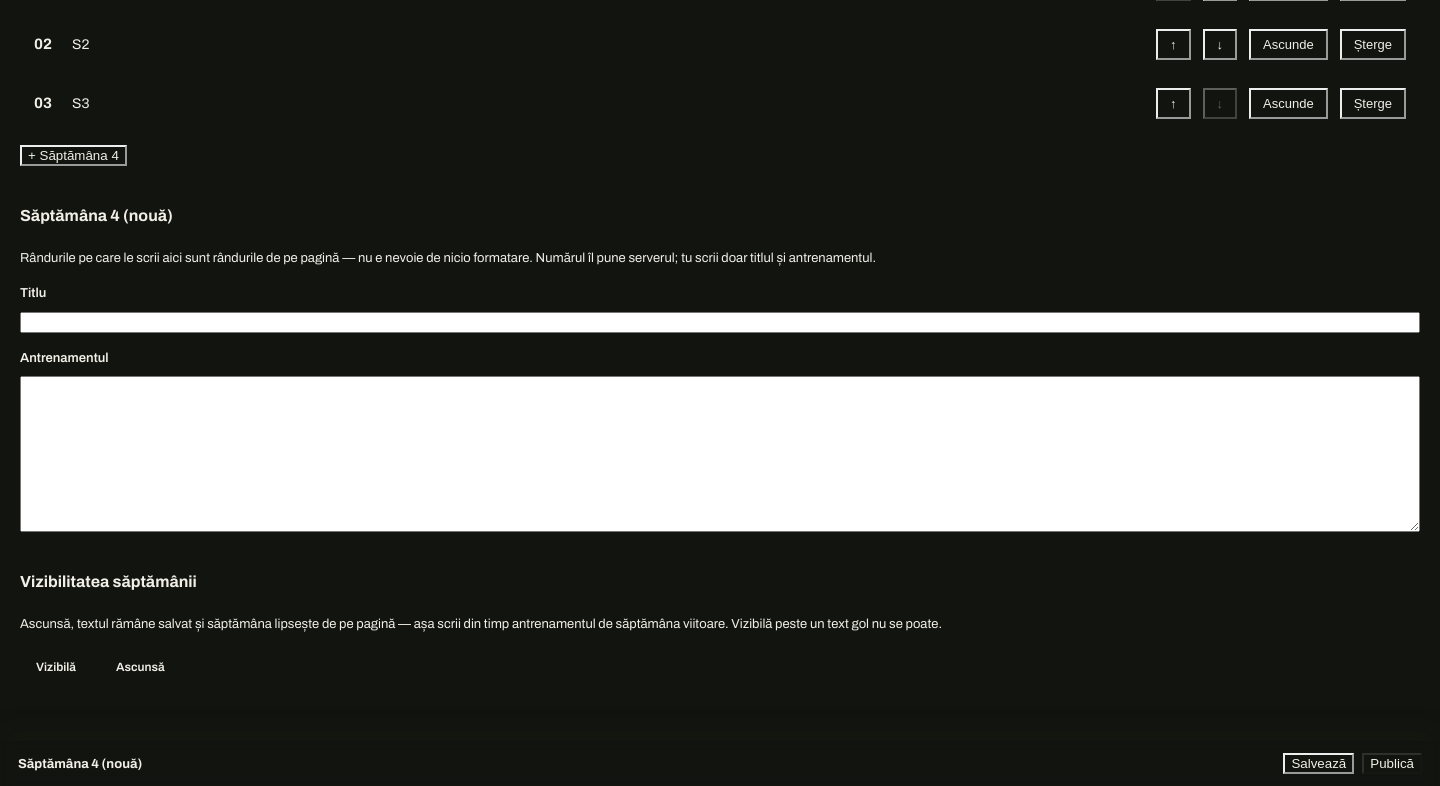
Test: textul nesalvat › „Renunț la text" deschide săptămâna cerută
The width and height of the screenshot is (1440, 786).
(page scrolled)
Expected: the button "S2" is shown, [72,31,1144,58]
In the text box labelled "Antrenamentul": x=720, y=454 [20,376,1420,532], type "ceva nesalvat"
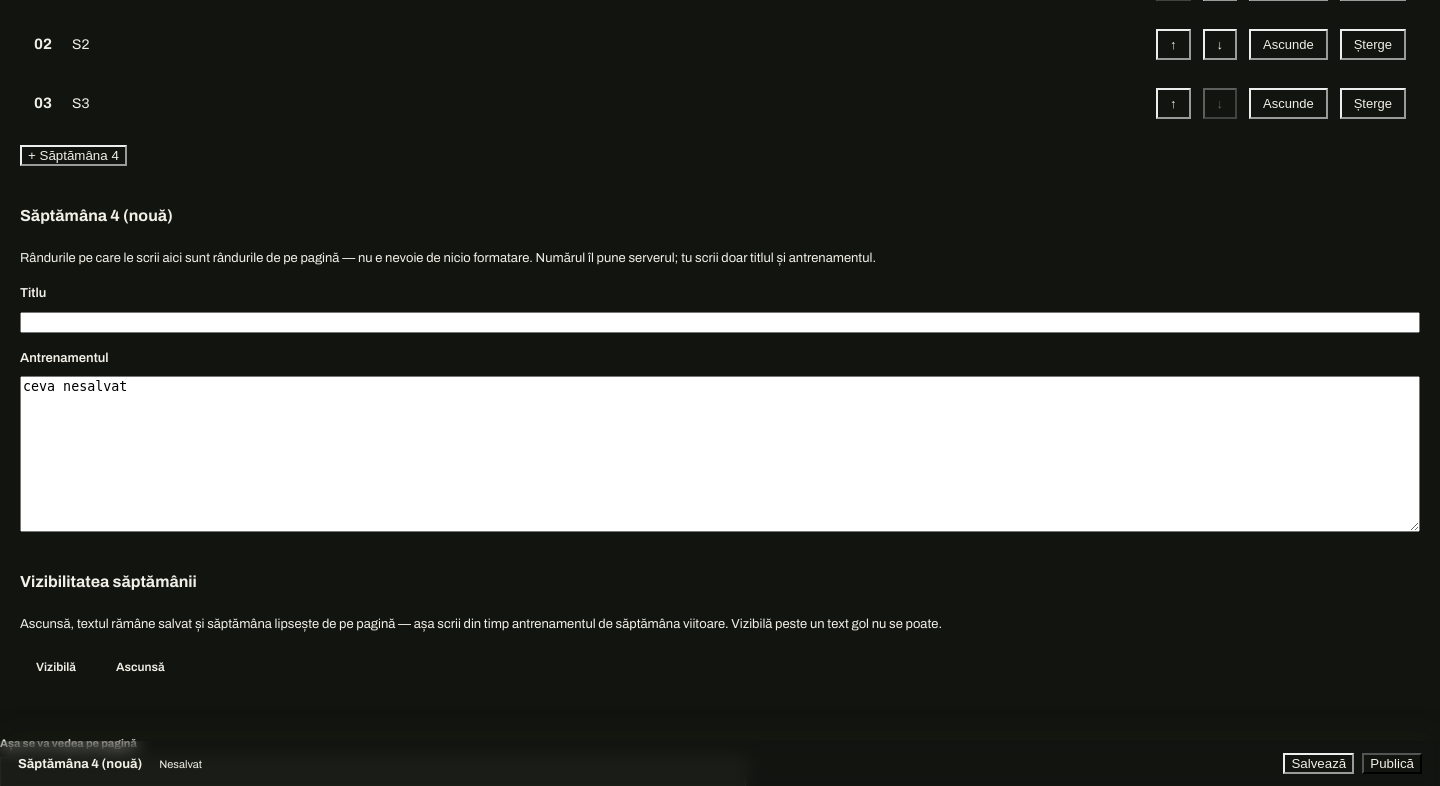
Click the button "S2": x=81, y=44 [72,31,1144,58]
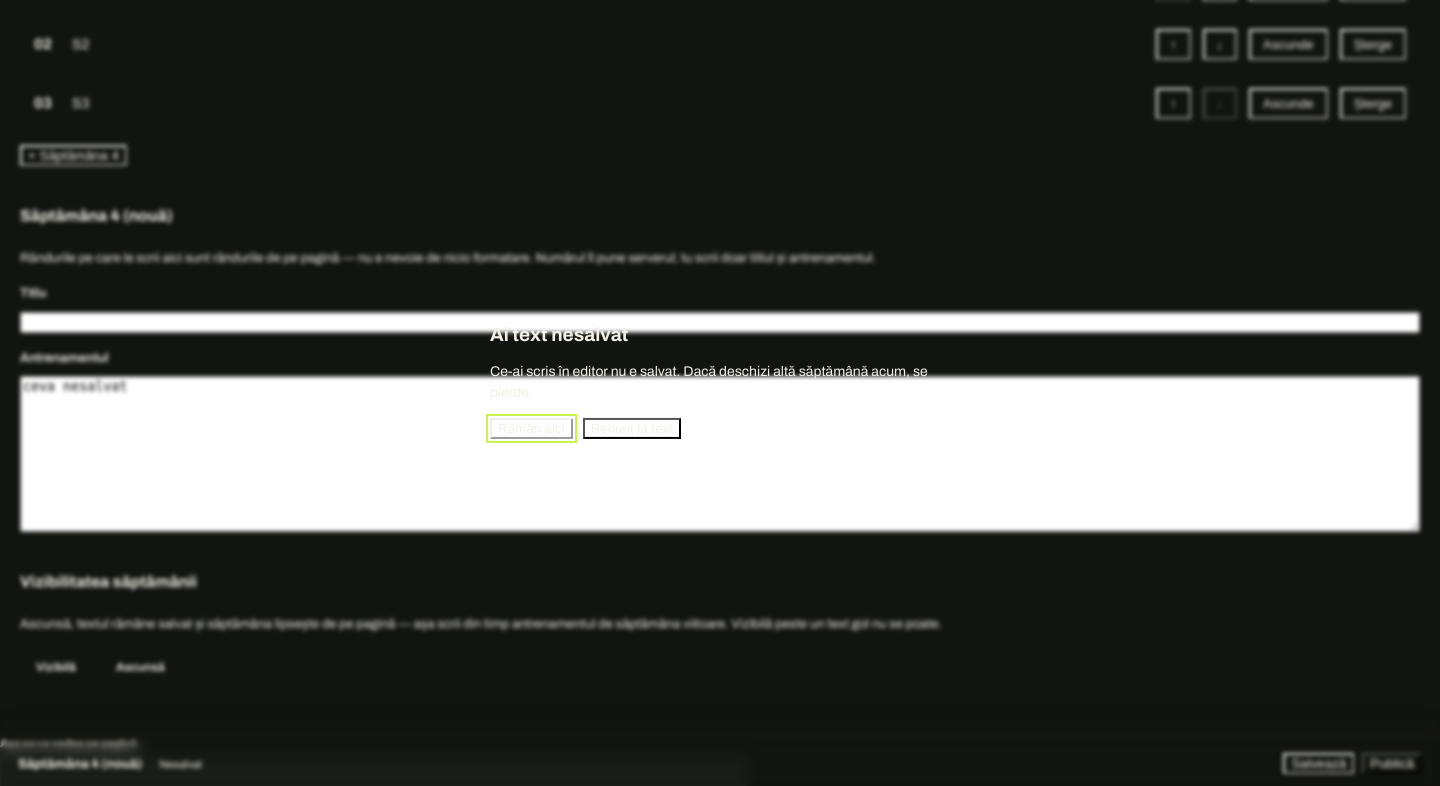
Click the button "Renunț la text": x=632, y=429 [583,418,681,439]
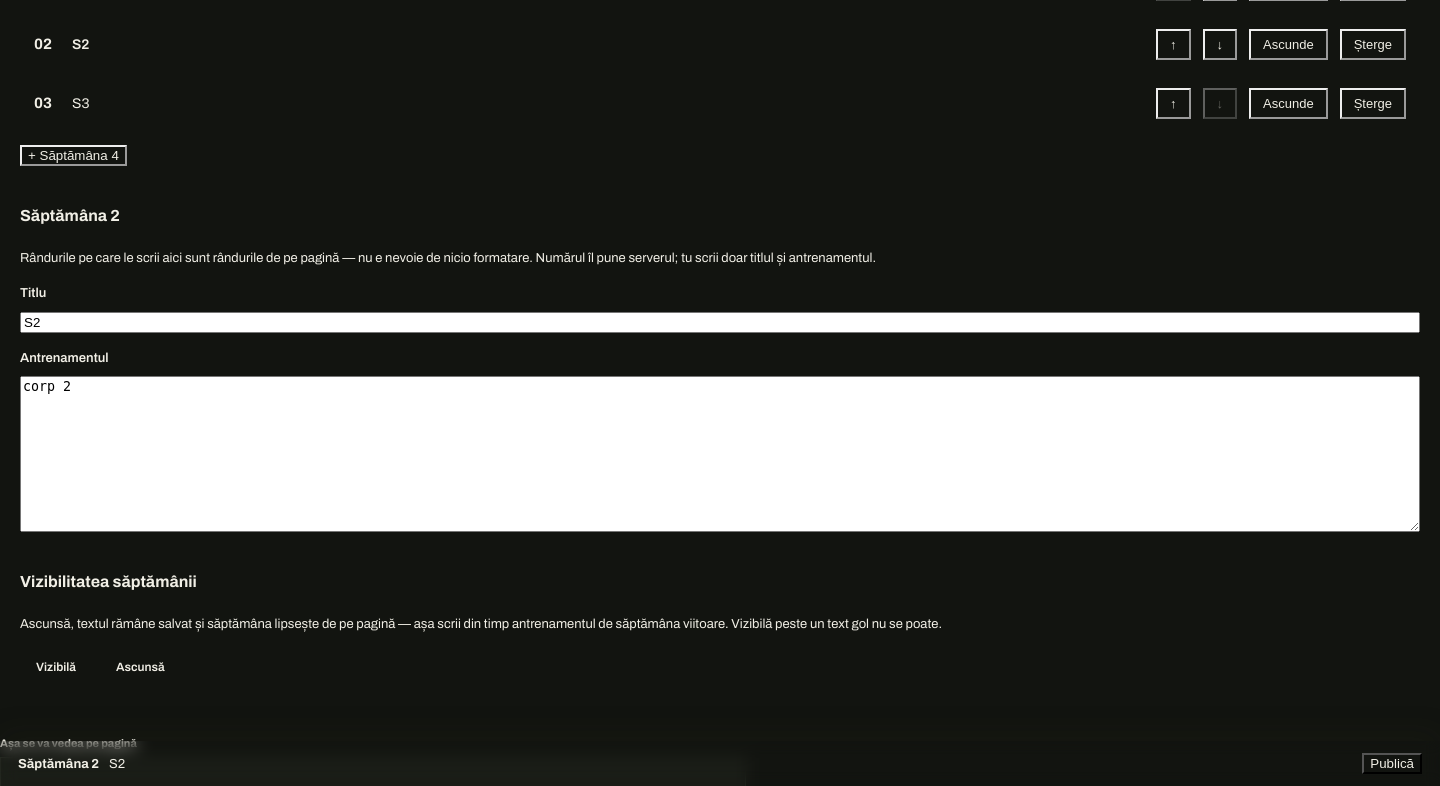
Expected: the text box labelled "Antrenamentul" holds "corp 2", [20,376,1420,532]
